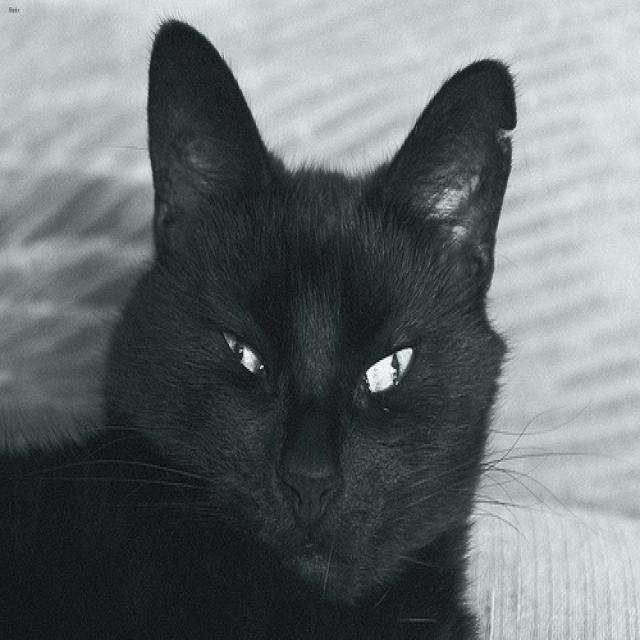Bombay: (110, 18, 513, 602)
